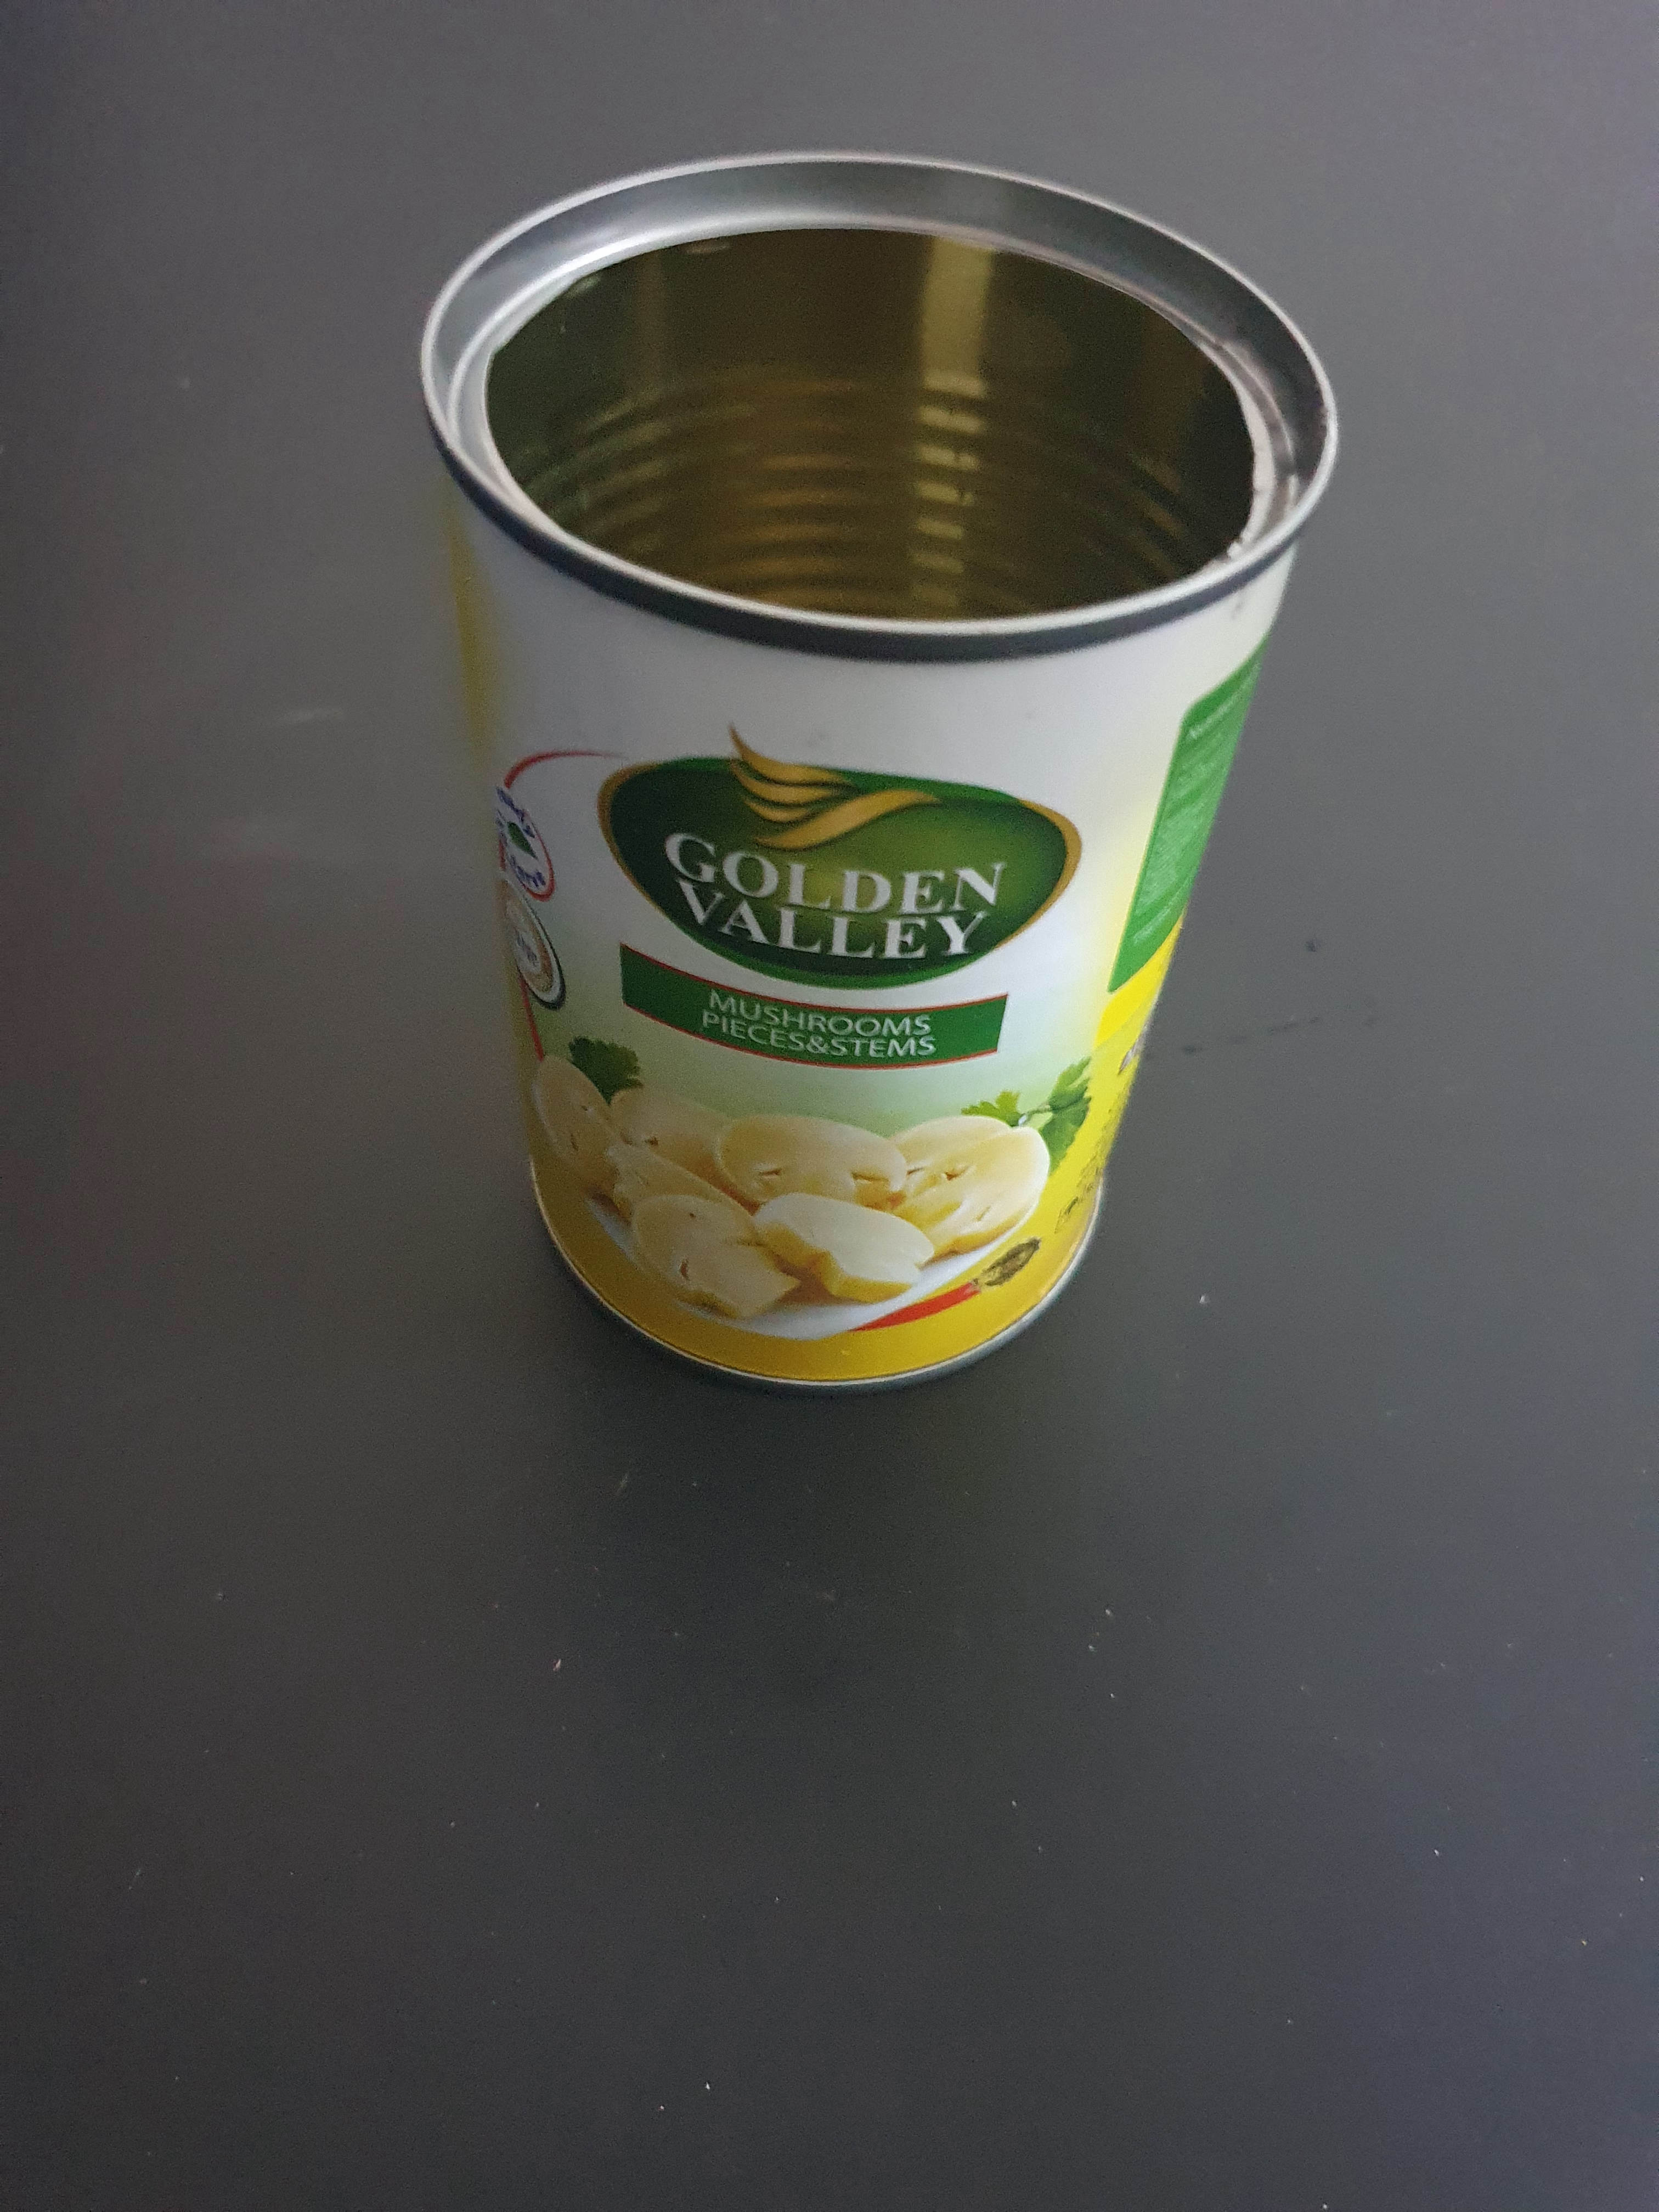metal: (371, 94, 1385, 1482)
